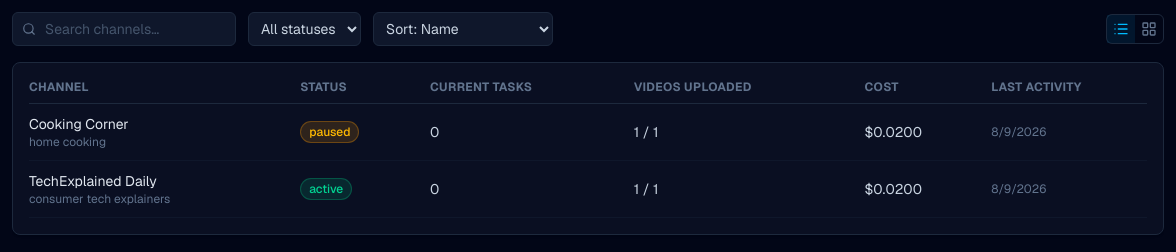
Test: ChannelsPage › filters the table as the user types in the search box
Expected: the link "TechExplained Daily" is shown, x1=29 y1=172 x2=157 y2=190
Expected: the link "Cooking Corner" is shown, x1=29 y1=115 x2=129 y2=133
In the field with placeholder "Search channels…": (124,29) x1=12 y1=12 x2=236 y2=46, type "Cooking"
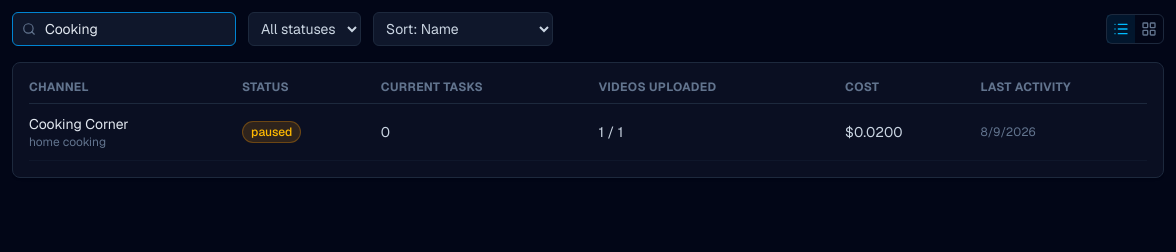
Expected: the link "Cooking Corner" is shown, x1=29 y1=115 x2=129 y2=133
Result: the link "TechExplained Daily" is gone
